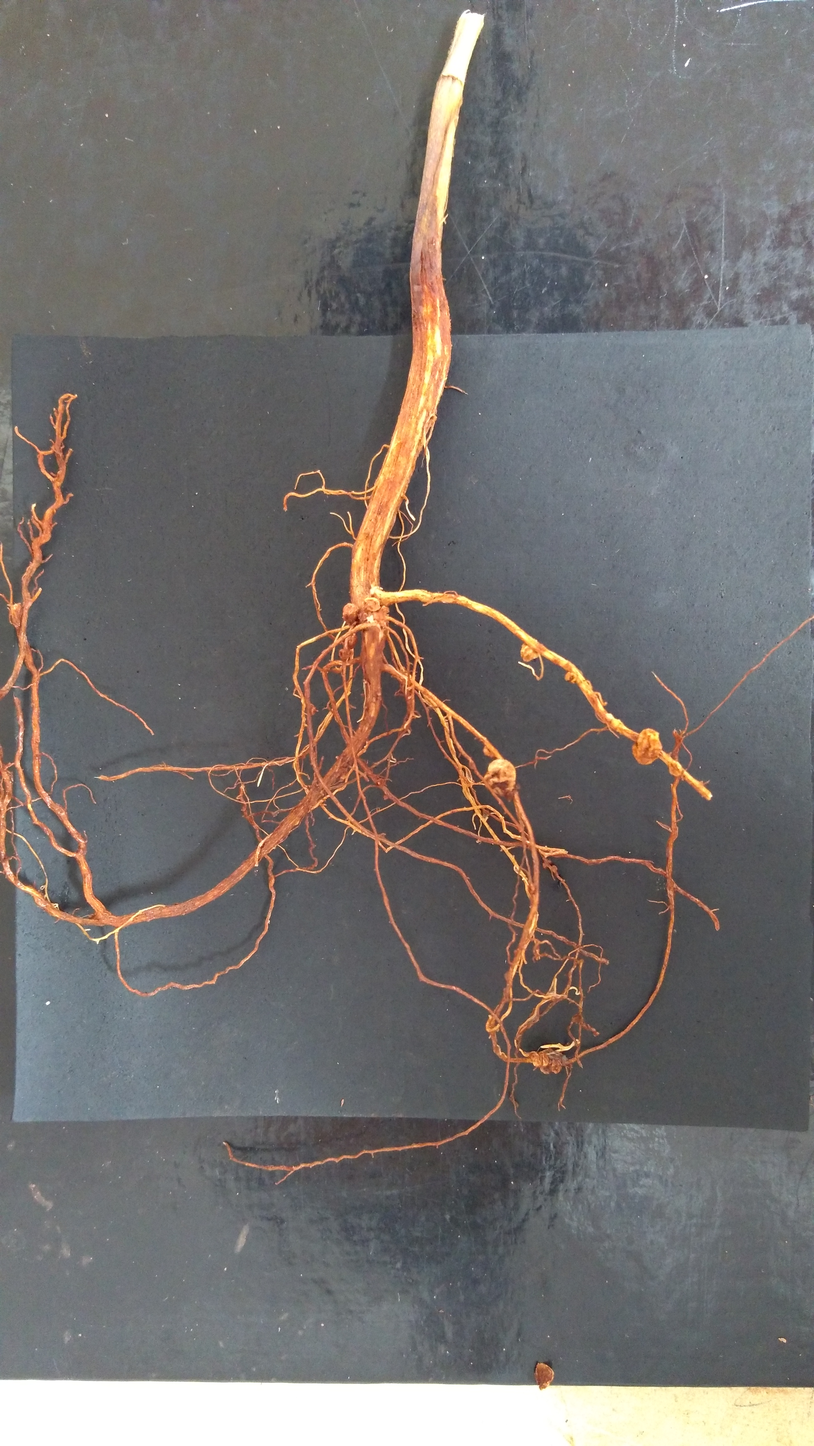nodule: (483, 758, 517, 797), (631, 729, 663, 766), (529, 1048, 565, 1075), (534, 1360, 556, 1390), (520, 642, 541, 662), (342, 603, 359, 627), (8, 602, 23, 628), (364, 597, 382, 612), (565, 670, 578, 684), (338, 648, 353, 660), (346, 633, 357, 649), (483, 745, 495, 758), (308, 702, 317, 716), (378, 605, 389, 614), (605, 712, 614, 722), (527, 883, 536, 893)
